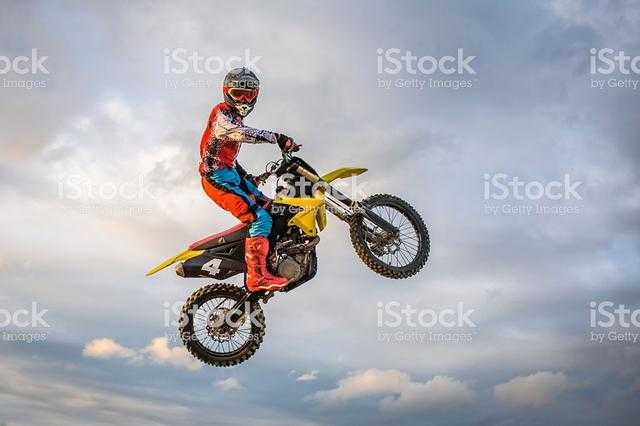motorcycle: (149, 130, 436, 373)
